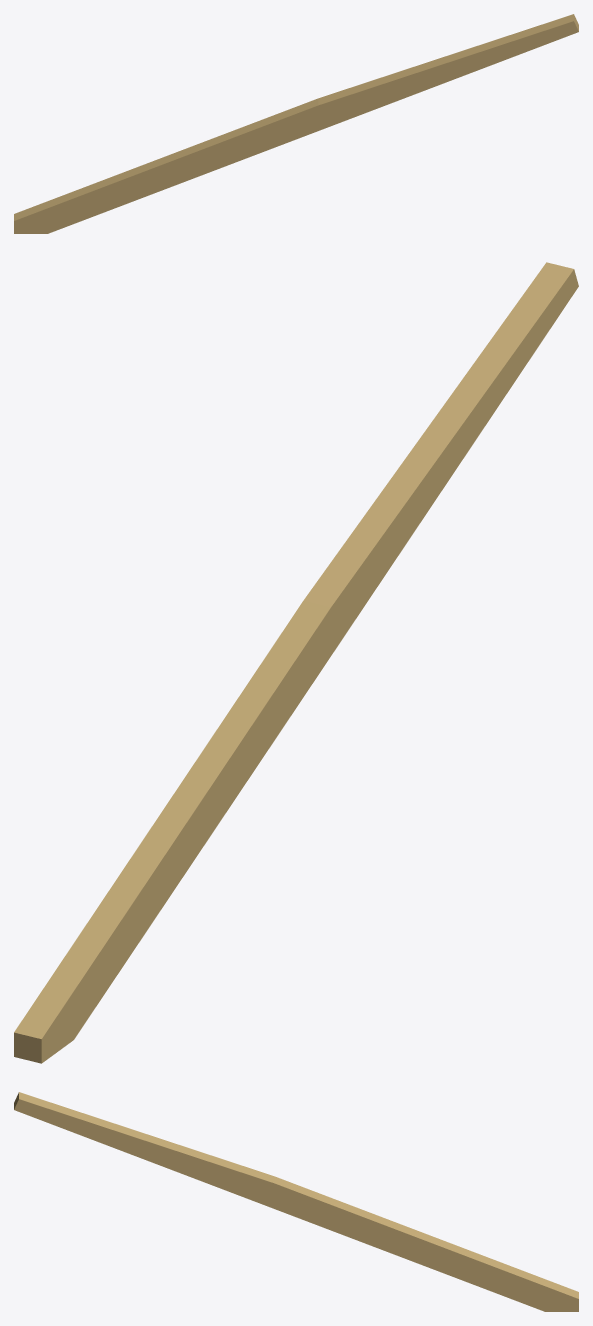
The picture shows the model from 3 angles, top to bottom: view 1: azimuth 90°, elevation 25°; view 2: azimuth 150°, elevation 25°; view 3: azimuth 270°, elevation 25°; orthographic projection. The views are drawn at different scales.
Parts seen in each view (by area): view 1: L1-3-S8-324-WEB04; view 2: L1-3-S8-324-WEB04; view 3: L1-3-S8-324-WEB04.
Part boxes in pixels (box(x1,y1,x2,y2)): L1-3-S8-324-WEB04: box(14, 14, 578, 233); L1-3-S8-324-WEB04: box(14, 262, 578, 1063); L1-3-S8-324-WEB04: box(14, 1092, 578, 1311).
Size of the model in its own units: 0.045 by 0.6289 by 1.51.
